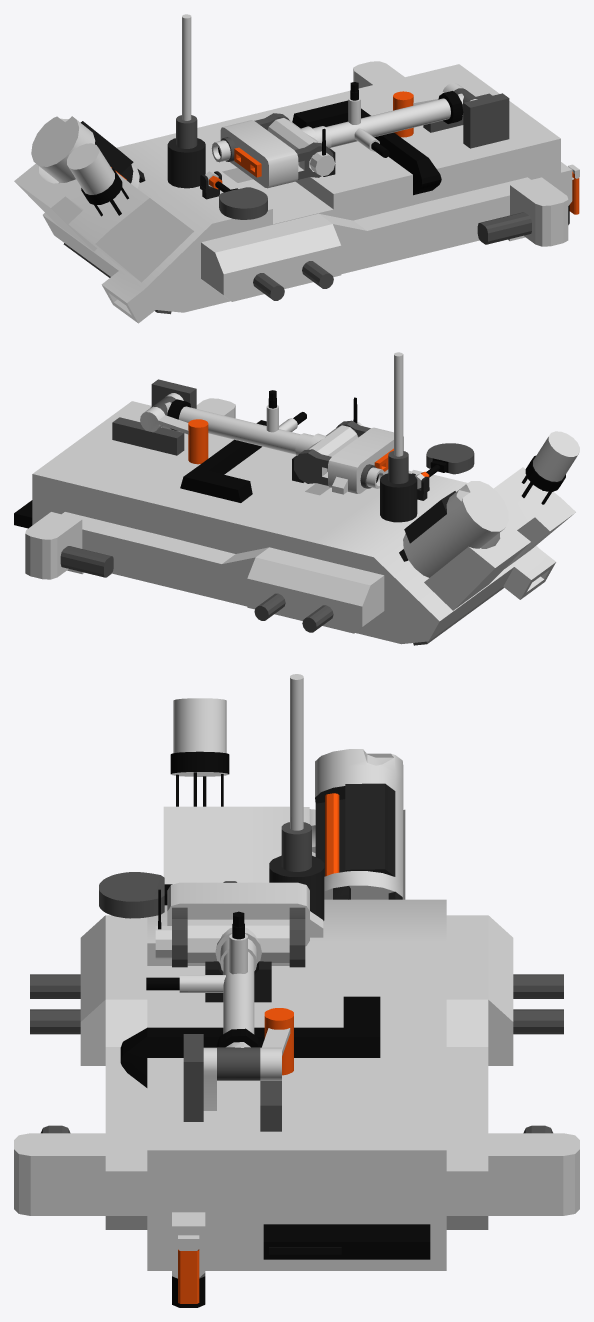
Rendered from Base_Rover.obj.
3 views of the same model, one above another, from view 1: azimuth 30°, elevation 25°; view 2: azimuth 150°, elevation 25°; view 3: azimuth 270°, elevation 25° (orthographic). The views are drawn at different scales.
Visible parts, largest first — view 1: Base_Rover_SpacialRoverExploreralumWhite, Base_Rover_SpacialRoverExploreralumGray, Base_Rover_SpacialRoverExploreralumBlack, Base_Rover_SpacialRoverExploreralumGrayDeep, Base_Rover_SpacialRoverExploreralumOrange; view 2: Base_Rover_SpacialRoverExploreralumWhite, Base_Rover_SpacialRoverExploreralumGray, Base_Rover_SpacialRoverExploreralumBlack, Base_Rover_SpacialRoverExploreralumGrayDeep, Base_Rover_SpacialRoverExploreralumOrange; view 3: Base_Rover_SpacialRoverExploreralumWhite, Base_Rover_SpacialRoverExploreralumBlack, Base_Rover_SpacialRoverExploreralumGray, Base_Rover_SpacialRoverExploreralumGrayDeep, Base_Rover_SpacialRoverExploreralumOrange.
Part boxes in pixels (<box>): Base_Rover_SpacialRoverExploreralumWhite: <box>14,14,579,323</box>; Base_Rover_SpacialRoverExploreralumGray: <box>63,88,531,314</box>; Base_Rover_SpacialRoverExploreralumBlack: <box>81,82,569,224</box>; Base_Rover_SpacialRoverExploreralumGrayDeep: <box>80,121,335,199</box>; Base_Rover_SpacialRoverExploreralumOrange: <box>111,91,579,214</box>; Base_Rover_SpacialRoverExploreralumWhite: <box>25,352,579,644</box>; Base_Rover_SpacialRoverExploreralumGray: <box>60,379,503,645</box>; Base_Rover_SpacialRoverExploreralumBlack: <box>14,390,565,528</box>; Base_Rover_SpacialRoverExploreralumGrayDeep: <box>292,455,455,561</box>; Base_Rover_SpacialRoverExploreralumOrange: <box>188,419,429,477</box>; Base_Rover_SpacialRoverExploreralumWhite: <box>14,674,579,1278</box>; Base_Rover_SpacialRoverExploreralumBlack: <box>120,751,430,1307</box>; Base_Rover_SpacialRoverExploreralumGray: <box>30,822,563,1133</box>; Base_Rover_SpacialRoverExploreralumGrayDeep: <box>205,783,402,1247</box>; Base_Rover_SpacialRoverExploreralumOrange: <box>178,793,339,1303</box>.
Bounding box in the file's own units: 10.27 × 5.1 × 6.8.
